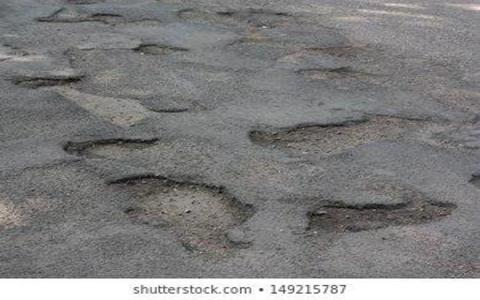patchy roads: (28, 108, 285, 253), (13, 3, 369, 98), (297, 107, 474, 273)
